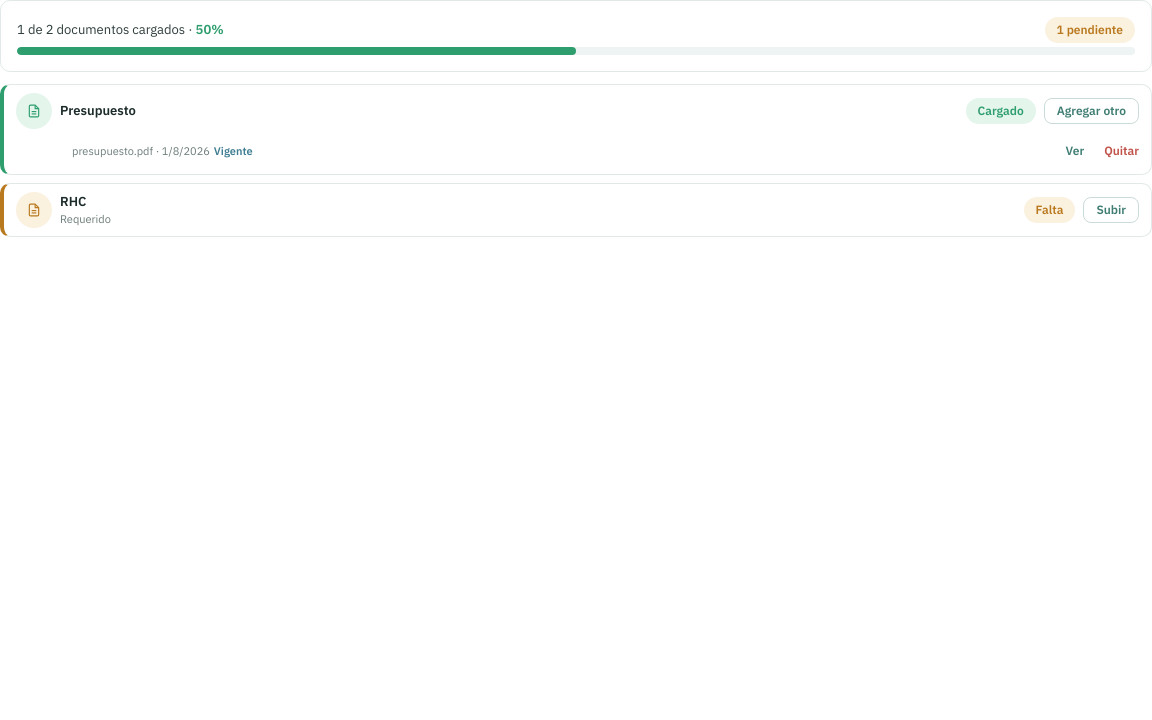
Scenario: DocumentChecklist — contenido de la previsualización según tipoMime (tasks.md 5.4, design.md Checkpoint (e)) › sin contenido resuelto (null, D2) o con error, no aparece el link "Descargar" — no hay url válida que ofrecer
Click the button with aria-label "ver presupuesto - presupuesto.pdf". click: (1075, 151)
box: left=1066, top=143, right=1084, bottom=159
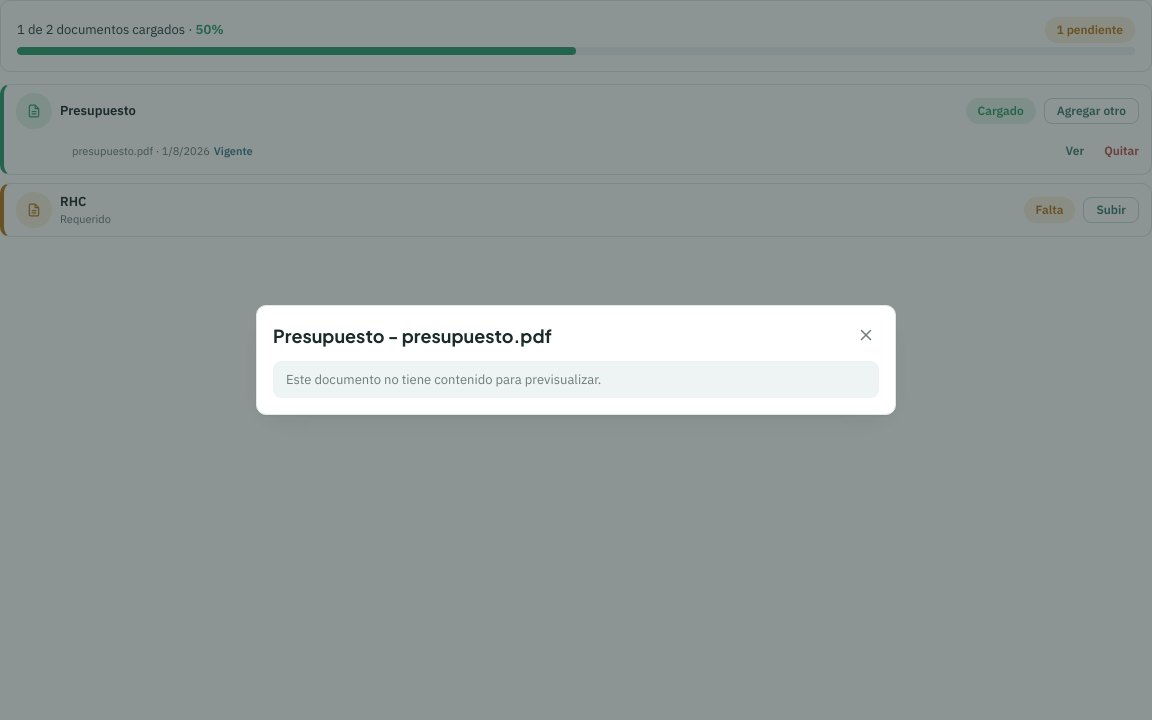
Expected: the text "Este documento no tiene contenido para previsualizar." is shown, left=273, top=361, right=879, bottom=398
